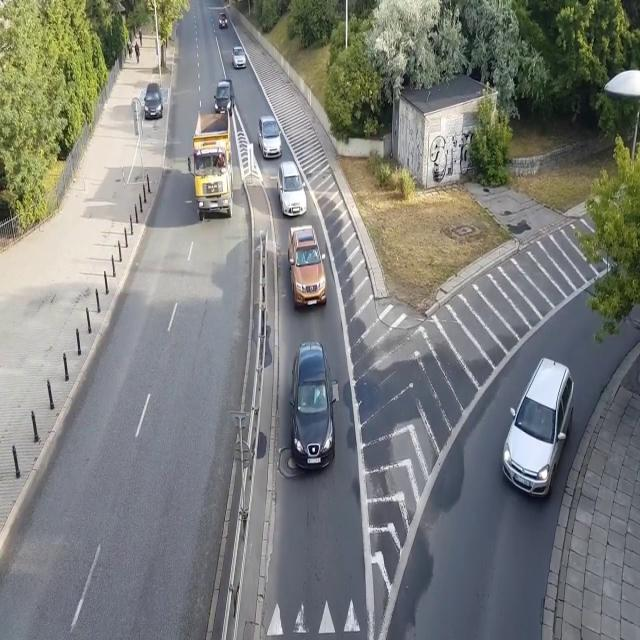car: (502, 356, 575, 502), (288, 339, 337, 474), (276, 161, 307, 217), (257, 115, 282, 160), (213, 80, 235, 118), (144, 82, 164, 119), (231, 46, 247, 70), (218, 12, 228, 29)
truck: (187, 111, 234, 222), (288, 226, 326, 310)
